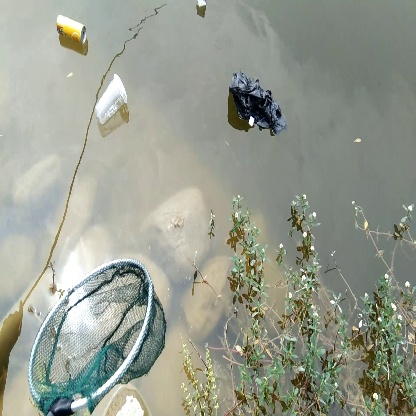bottle: (93, 73, 131, 126), (53, 12, 94, 44)
plastic-bag: (226, 68, 290, 135)
